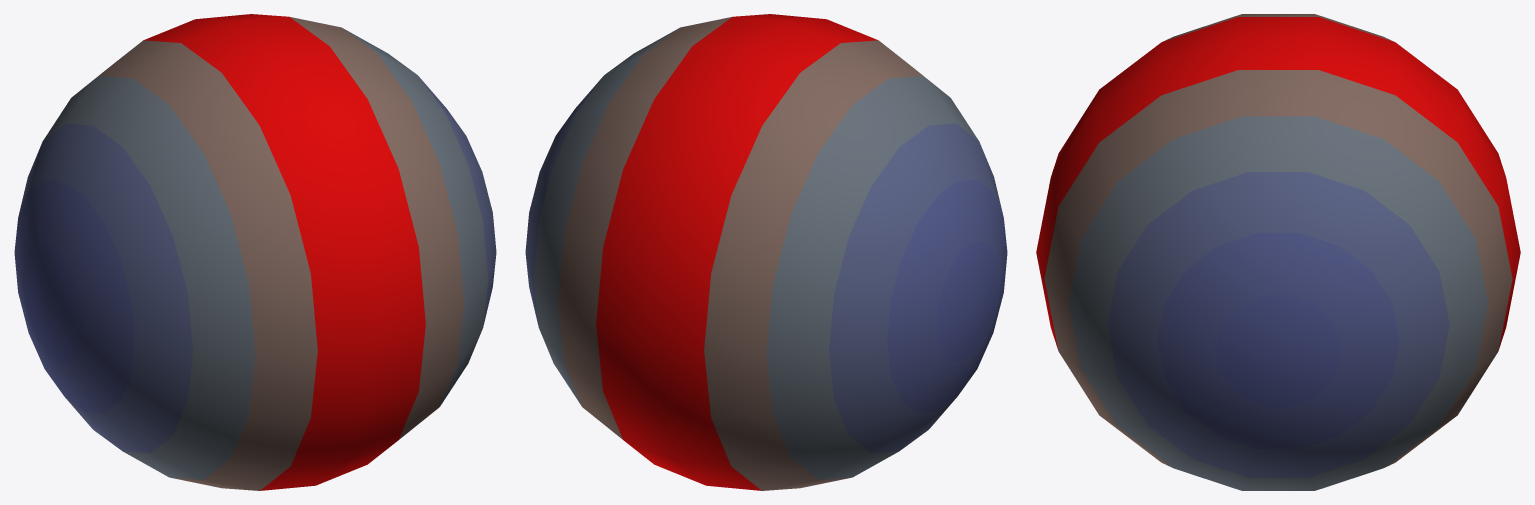
File: eye_modo.fbx
3 views of the same model, side by side, from view 1: azimuth 30°, elevation 25°; view 2: azimuth 150°, elevation 25°; view 3: azimuth 270°, elevation 25° (orthographic).
Visible parts, largest first — view 1: Mesh; view 2: Mesh; view 3: Mesh.
Part boxes in pixels (left/top/right/bottom): Mesh: left=14, top=14, right=496, bottom=490; Mesh: left=525, top=14, right=1007, bottom=490; Mesh: left=1036, top=14, right=1520, bottom=490.
Size of the model in its own units: 4 by 3.94 by 4.
